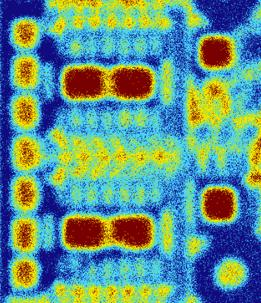Pad 1: (63, 215, 107, 250), (110, 215, 154, 249), (110, 66, 153, 100), (64, 66, 106, 100), (202, 186, 237, 223), (199, 35, 233, 69)
Pad 2: (13, 96, 38, 130), (13, 177, 38, 211), (13, 218, 37, 252), (14, 138, 39, 170), (14, 57, 39, 88), (13, 259, 38, 288), (14, 20, 37, 49)
